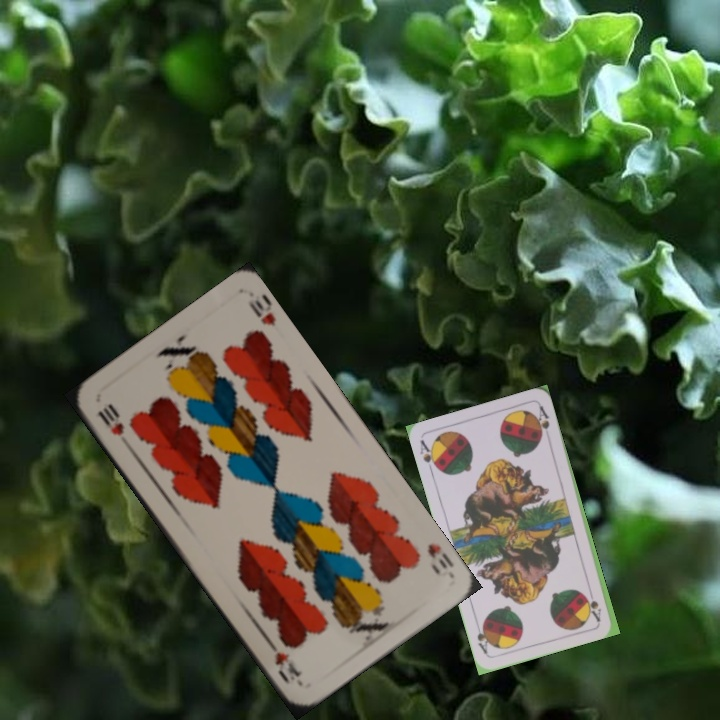H10: (93, 400, 127, 439), (423, 539, 456, 572)
SA: (416, 436, 442, 476), (584, 583, 604, 624)
